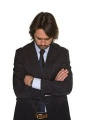male: (29, 8, 62, 52)
